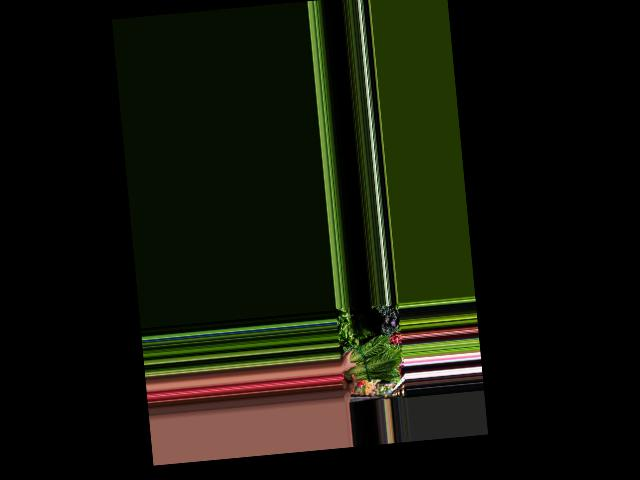lettuce: (337, 333, 401, 385)
